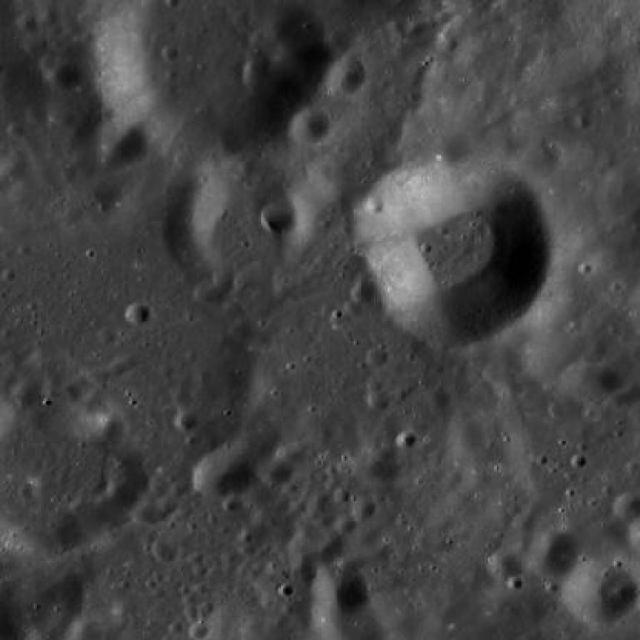crater: (93, 0, 327, 162), (353, 162, 552, 340), (0, 391, 137, 557), (517, 284, 640, 398), (502, 396, 610, 493), (190, 168, 296, 264), (281, 180, 357, 248), (562, 557, 636, 625), (271, 27, 334, 84), (195, 444, 254, 498), (95, 116, 153, 170), (312, 564, 366, 614), (529, 532, 583, 582), (564, 358, 618, 406), (289, 520, 342, 568), (518, 140, 562, 180), (238, 420, 280, 460), (289, 106, 331, 143), (256, 196, 296, 232), (328, 57, 367, 92), (442, 418, 480, 452), (356, 450, 394, 484), (47, 59, 82, 92), (489, 548, 523, 578), (88, 408, 121, 438), (13, 377, 44, 405), (196, 278, 227, 306), (259, 454, 290, 482), (436, 137, 464, 165), (242, 483, 272, 509), (390, 608, 419, 634), (350, 522, 379, 548), (1, 151, 30, 177), (614, 492, 640, 520), (612, 383, 640, 409), (323, 30, 351, 56), (72, 615, 100, 640), (134, 500, 160, 525), (242, 52, 268, 77), (291, 558, 317, 582), (348, 494, 374, 518), (22, 32, 48, 54), (212, 268, 237, 290), (16, 12, 41, 34), (332, 510, 356, 532), (152, 539, 175, 561), (174, 410, 197, 430), (350, 284, 373, 304), (126, 302, 148, 322), (342, 551, 364, 571), (368, 542, 390, 562), (512, 512, 534, 532), (36, 8, 58, 27), (428, 388, 450, 406), (368, 390, 390, 408), (174, 388, 194, 407), (150, 474, 170, 492), (309, 492, 329, 510), (586, 338, 606, 356), (362, 435, 382, 453), (437, 35, 457, 53), (38, 54, 57, 72), (364, 195, 384, 212), (396, 430, 414, 448), (573, 114, 592, 131), (368, 346, 386, 363), (407, 19, 425, 36), (108, 358, 127, 374), (190, 623, 208, 639), (284, 446, 302, 462), (1, 0, 2, 1)
